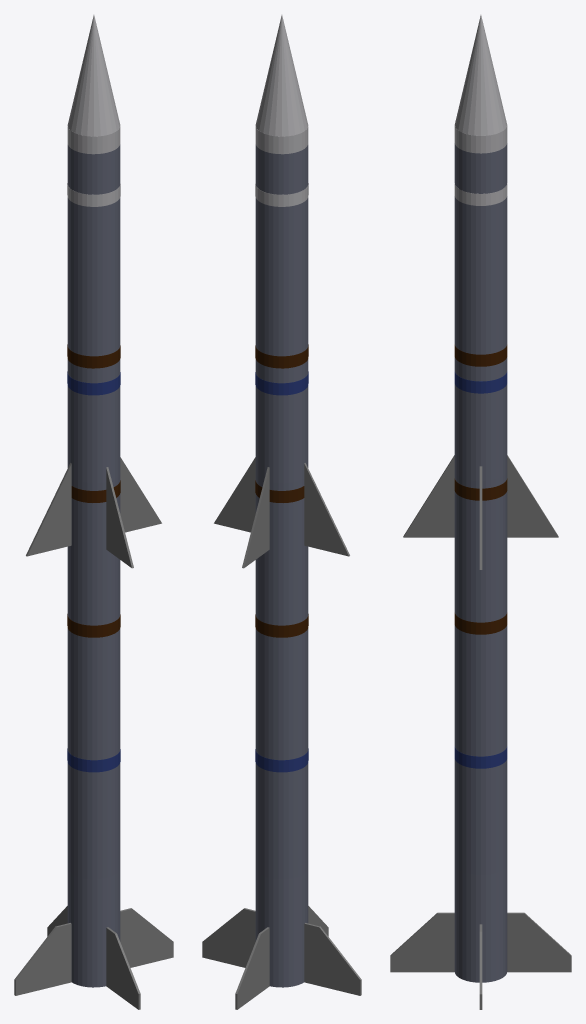
The model's file is missile.obj.
3 renders of one model, left to right at view 1: azimuth 30°, elevation 25°; view 2: azimuth 150°, elevation 25°; view 3: azimuth 270°, elevation 25°, orthographic.
Visible parts, largest first — view 1: Cylinder_5, Cylinder_7, Cylinder_8, Cylinder_4, Cylinder_6, 11, Mesh_1_15, Mesh_16, Mesh_22, Cylinder_10, Cube_1_1_1_43, Mesh_3_3_40 (+15 smaller); view 2: Cylinder_5, Cylinder_7, Cylinder_8, Cylinder_4, Cylinder_6, 11, Mesh_13, Mesh_1_18, Mesh_1_21, Cylinder_10, Cube_1_1_1_43, Mesh_1_5_5_42 (+15 smaller); view 3: Cylinder_5, Cylinder_7, Cylinder_8, Cylinder_4, Cylinder_6, 11, Mesh_19, Mesh_1_24, Cube_1_1_1_48, Cube_1_1_1_53, Mesh_3_3_55, Mesh_1_5_5_52 (+11 smaller).
Boxes of the visible parts, left/top/right/bottom form: Cylinder_5: left=67, top=473, right=120, bottom=879; Cylinder_7: left=67, top=261, right=120, bottom=408; Cylinder_8: left=67, top=155, right=120, bottom=270; Cylinder_4: left=67, top=869, right=120, bottom=969; Cylinder_6: left=67, top=398, right=120, bottom=483; 11: left=67, top=15, right=120, bottom=136; Mesh_1_15: left=27, top=464, right=71, bottom=556; Mesh_16: left=120, top=457, right=161, bottom=532; Mesh_22: left=106, top=468, right=131, bottom=567; Cylinder_10: left=67, top=126, right=120, bottom=154; Cube_1_1_1_43: left=14, top=966, right=71, bottom=995; Mesh_3_3_40: left=132, top=909, right=172, bottom=951; Cylinder_5: left=255, top=473, right=308, bottom=879; Cylinder_7: left=255, top=261, right=308, bottom=408; Cylinder_8: left=255, top=155, right=308, bottom=270; Cylinder_4: left=255, top=869, right=308, bottom=969; Cylinder_6: left=255, top=398, right=308, bottom=483; 11: left=255, top=15, right=308, bottom=136; Mesh_13: left=304, top=464, right=348, bottom=556; Mesh_1_18: left=214, top=457, right=255, bottom=532; Mesh_1_21: left=244, top=468, right=269, bottom=567; Cylinder_10: left=255, top=126, right=308, bottom=154; Cube_1_1_1_43: left=304, top=966, right=361, bottom=995; Mesh_1_5_5_42: left=203, top=909, right=243, bottom=951; Cylinder_5: left=454, top=471, right=507, bottom=874; Cylinder_7: left=454, top=259, right=507, bottom=406; Cylinder_8: left=454, top=154, right=507, bottom=268; Cylinder_4: left=454, top=865, right=507, bottom=965; Cylinder_6: left=454, top=396, right=507, bottom=480; 11: left=454, top=15, right=507, bottom=135; Mesh_19: left=507, top=456, right=558, bottom=537; Mesh_1_24: left=403, top=456, right=454, bottom=537; Cube_1_1_1_48: left=390, top=956, right=454, bottom=972; Cube_1_1_1_53: left=507, top=956, right=571, bottom=972; Mesh_3_3_55: left=524, top=914, right=570, bottom=956; Mesh_1_5_5_52: left=391, top=914, right=437, bottom=956.
Size of the model in its own units: 18.14 by 106 by 18.15.
